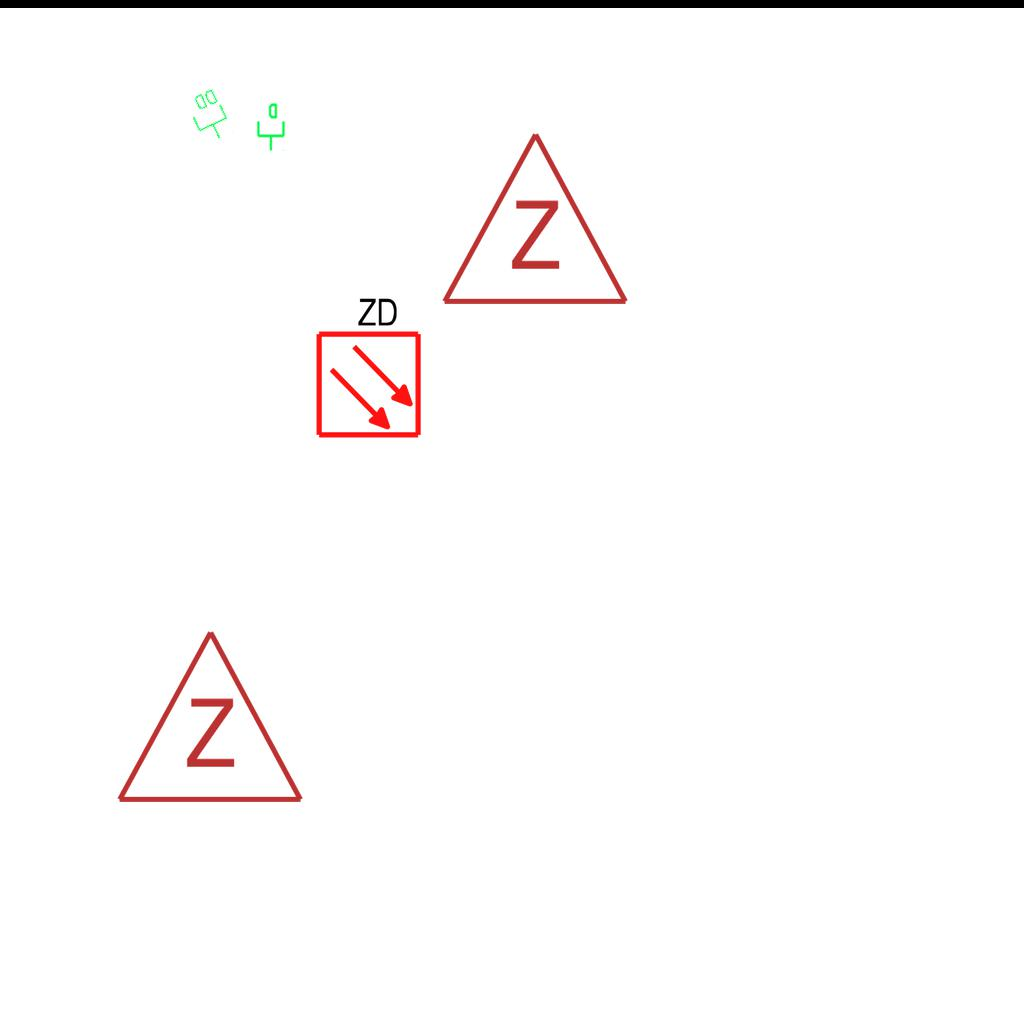Datenanschluss_einfach: (253, 102, 287, 152)
Datenanschluss_zweifach: (183, 85, 236, 147)
ZD_Melder_in_Zwischendecke_mit_Revisionsoeffnung_mind_40_x_40_cm: (310, 291, 424, 440)
Zimmersignalleuchte: (110, 617, 306, 817), (435, 119, 631, 319)
